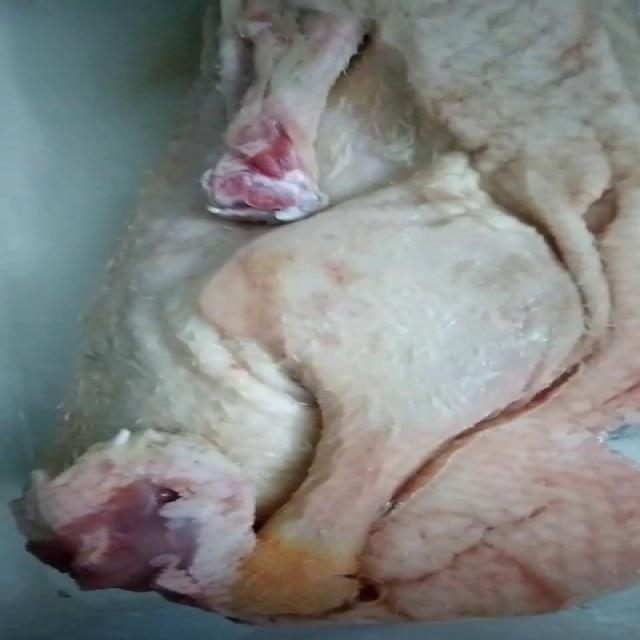chicken: (10, 0, 638, 627)
